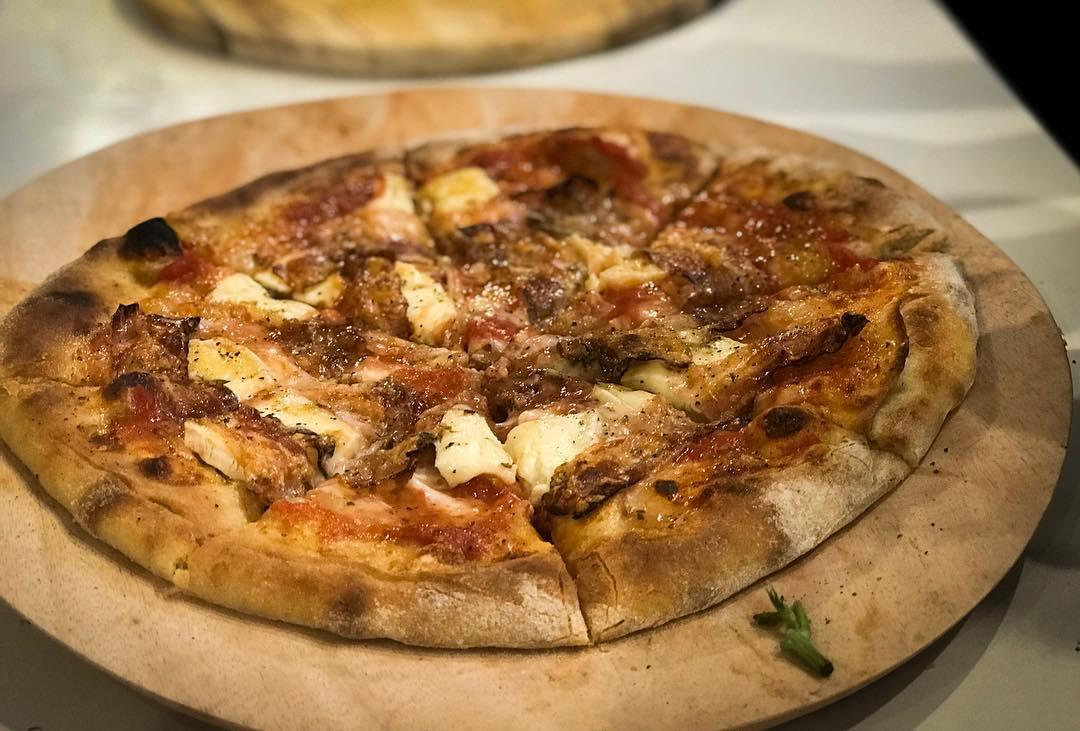Cheese: (195, 403, 341, 464), (447, 412, 582, 476), (620, 337, 731, 403), (393, 172, 491, 232), (215, 276, 311, 319), (400, 268, 453, 334), (194, 348, 271, 393), (575, 241, 650, 280)
Pizza: (0, 121, 984, 648)
